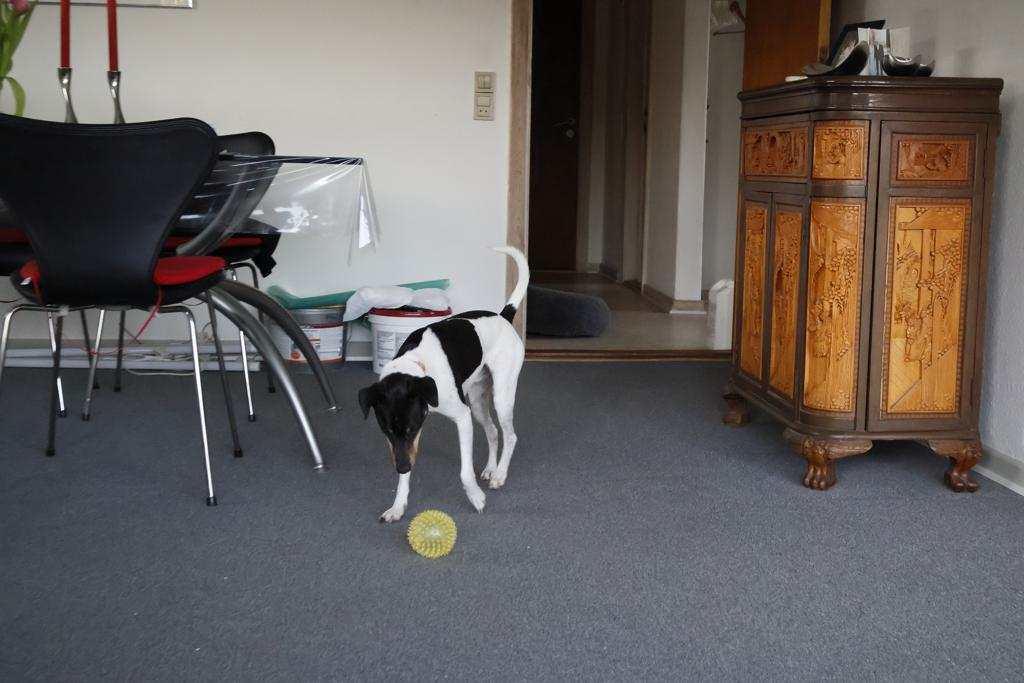Dog: (329, 235, 544, 551)
